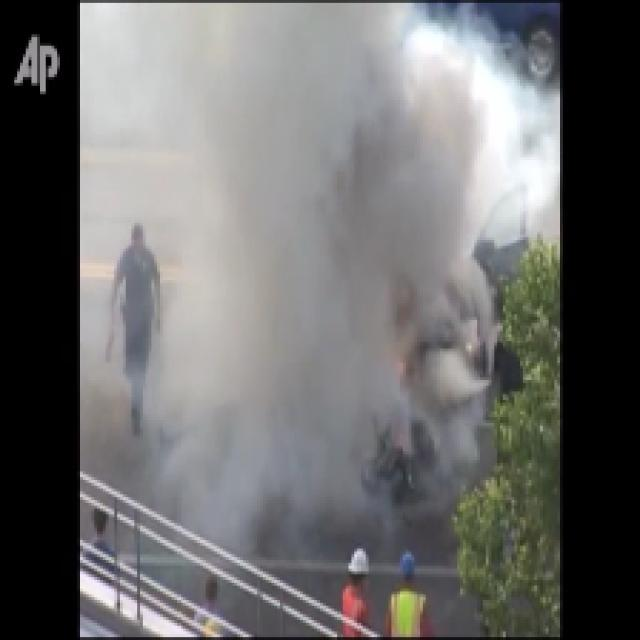Smoke: (186, 12, 480, 488)
